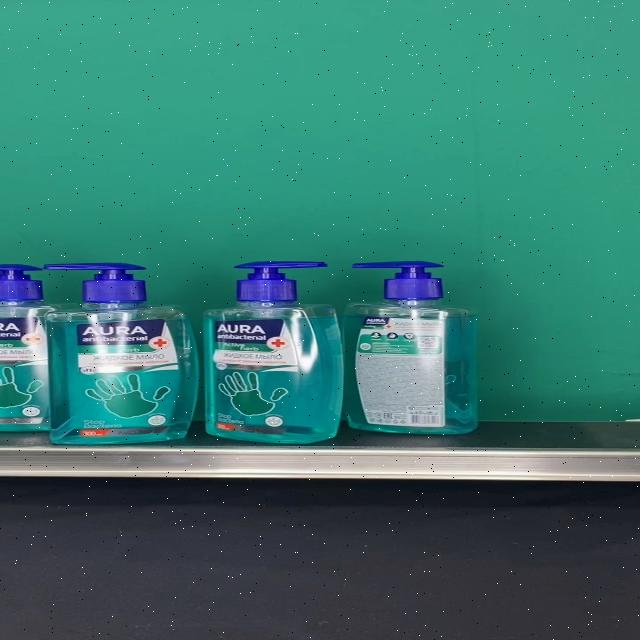Bottle: (44, 263, 198, 445), (202, 260, 345, 443), (344, 260, 477, 434)
Cap: (233, 260, 329, 302), (44, 263, 146, 301), (351, 260, 444, 300)
